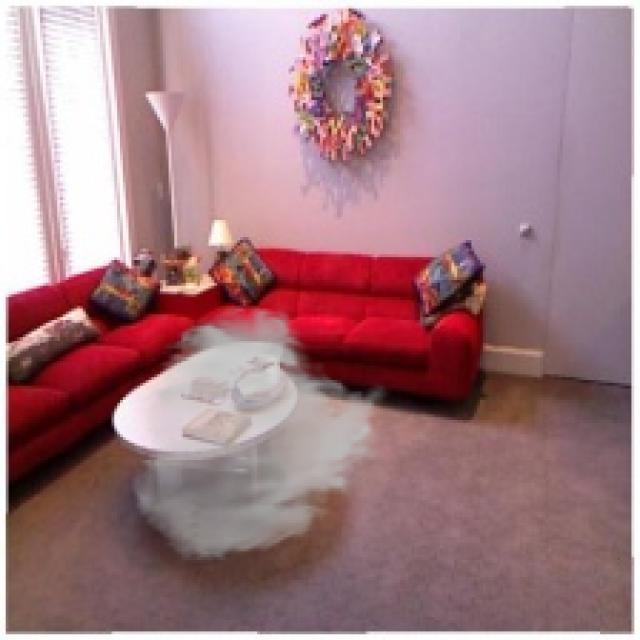Smoke: (128, 303, 392, 563)
